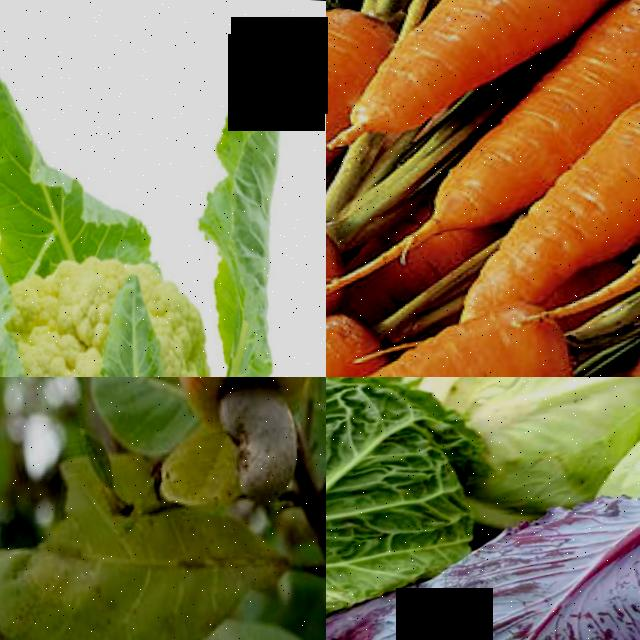cabbage: (390, 456, 640, 640), (431, 377, 640, 456)
carrot: (423, 75, 640, 277), (326, 0, 583, 112), (326, 281, 587, 377), (473, 0, 640, 126), (326, 179, 358, 354)
cashew: (200, 377, 326, 514)
cauliflower: (0, 0, 326, 377)
